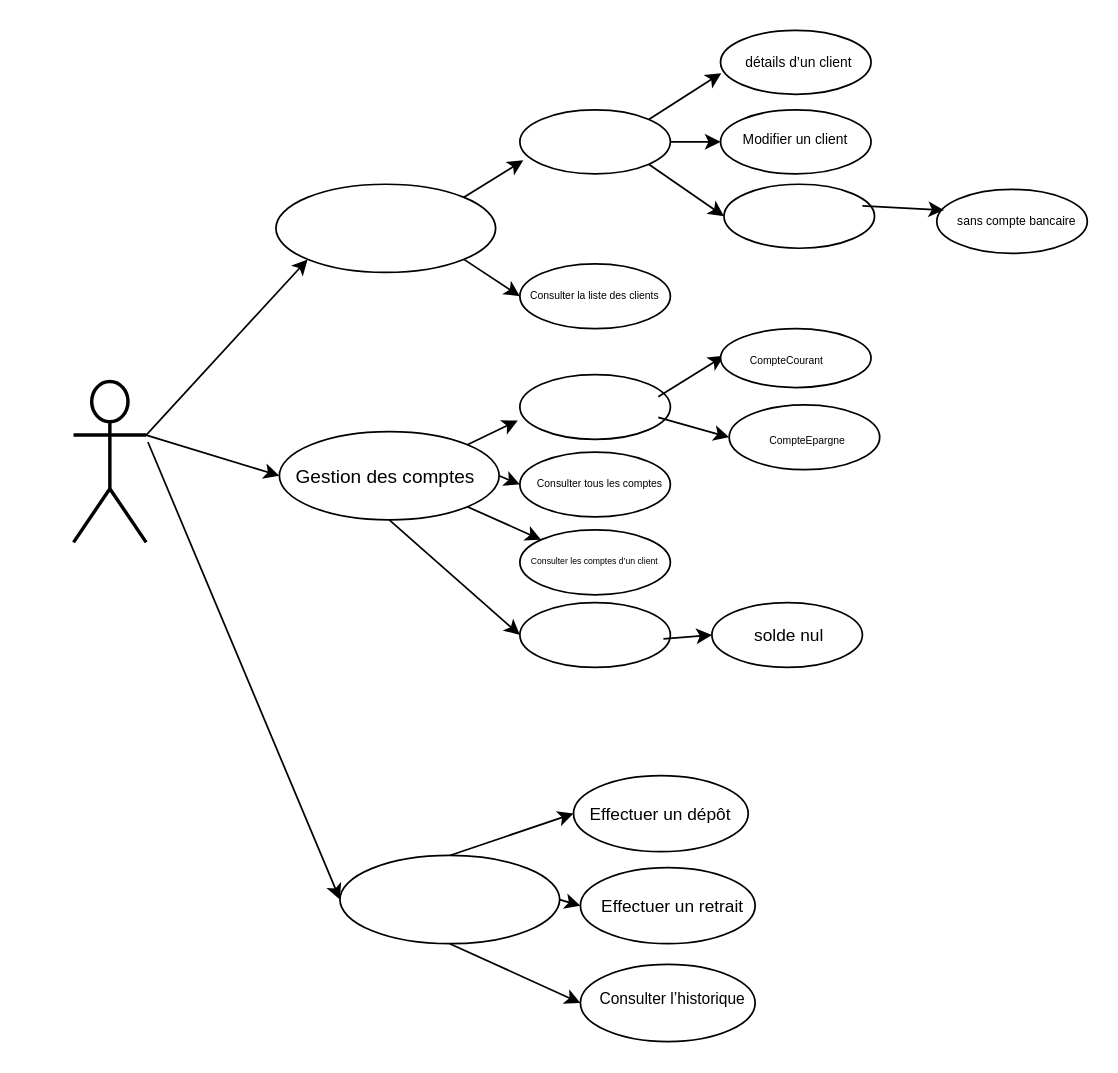
Some shapes in this 1118 by 1073 pixel diagram are drawn without their labels. The centre of each missing label's shape, as x and y in pixels:
Créer un client: pixel 594 141
Créer un compte: pixel 594 406
Gestion des clients: pixel 385 227
Gestion des transactions: pixel 449 899
Supprimer un client: pixel 798 215
Supprimer un compte: pixel 594 634
Utilisateur: pixel 109 461
